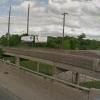Bridge: (3, 38, 100, 88)
